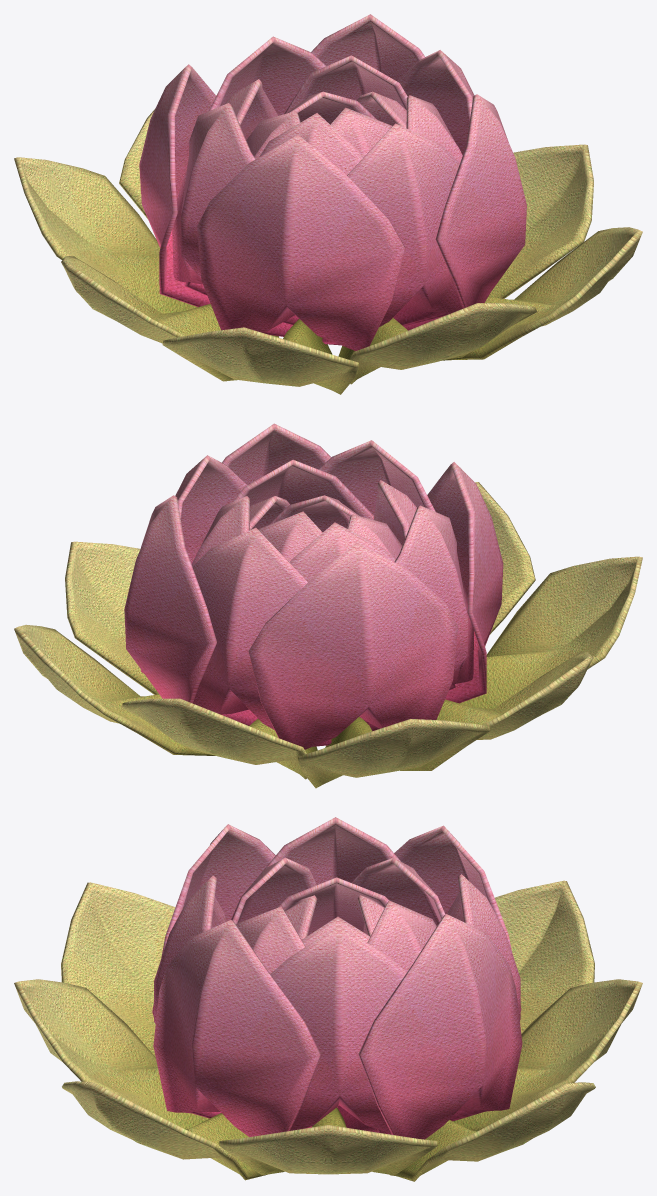
File: Lotus.fbx
The picture shows the model from 3 angles, top to bottom: view 1: azimuth 30°, elevation 25°; view 2: azimuth 150°, elevation 25°; view 3: azimuth 270°, elevation 25°; orthographic projection. The views are drawn at different scales.
Visible parts, largest first — view 1: lotus_petals, lotus_leaves; view 2: lotus_petals, lotus_leaves; view 3: lotus_petals, lotus_leaves.
Boxes of the visible parts, x1,y1,x2,y2 form: lotus_petals: [139, 14, 526, 350]; lotus_leaves: [14, 95, 642, 394]; lotus_petals: [124, 423, 503, 749]; lotus_leaves: [14, 482, 642, 788]; lotus_petals: [152, 817, 522, 1139]; lotus_leaves: [14, 880, 642, 1181].
Size of the model in its own units: 2.56 by 1.21 by 2.58.
